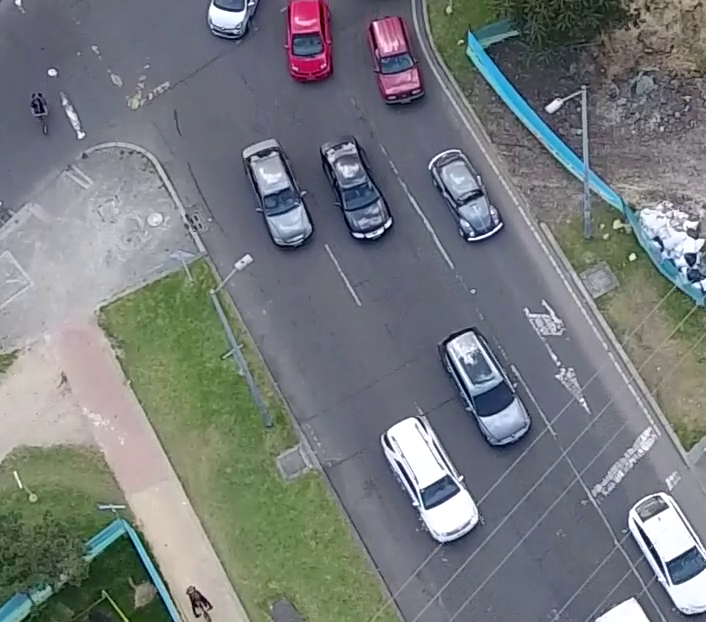car: (378, 413, 483, 548), (438, 325, 533, 453), (316, 132, 400, 245), (236, 132, 313, 247), (427, 142, 508, 245), (364, 14, 426, 105)
